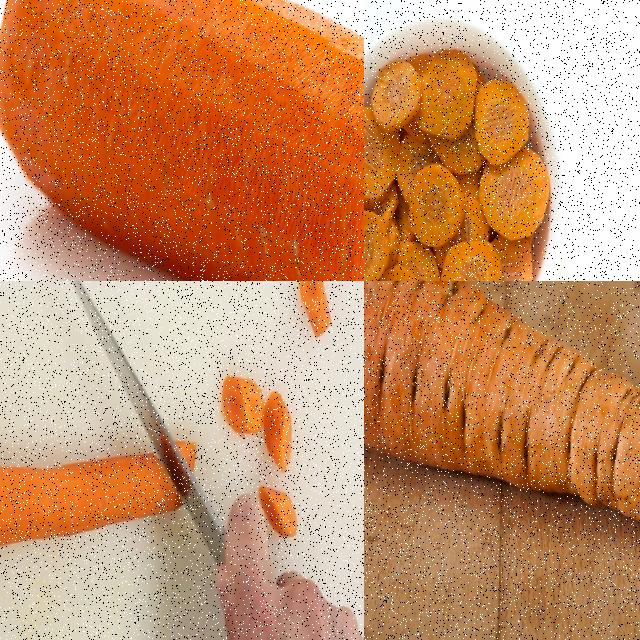carrot: (0, 0, 363, 280), (364, 281, 639, 639), (364, 48, 561, 280), (0, 435, 197, 561)
